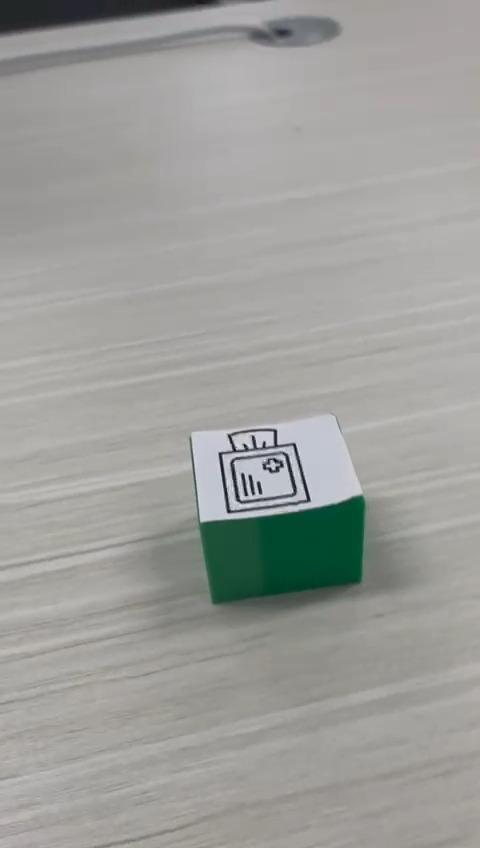Gauze: (188, 411, 366, 604)
